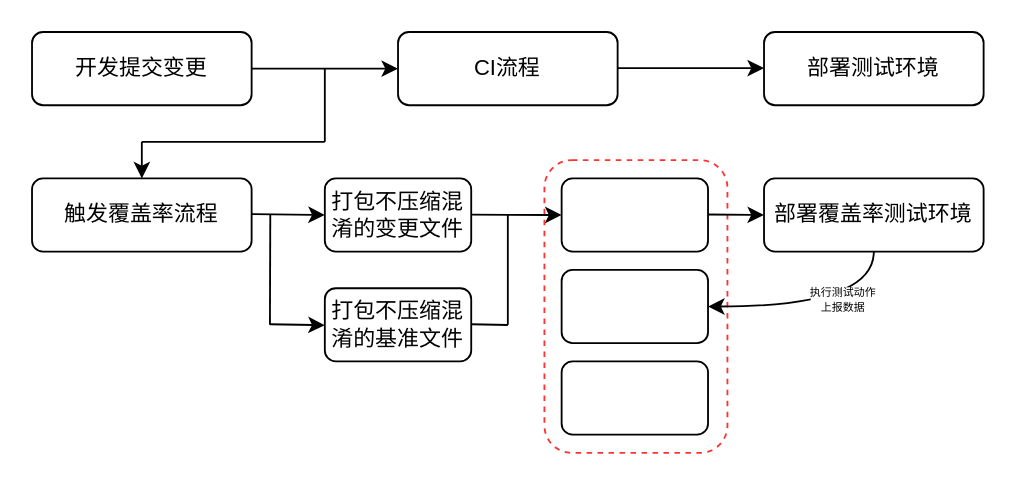
Image size: 1016x485. Some labels were removed from this diagram. The shapes that lost their labels are listed below. From the top down, each one's centre as x and y in pixels, then its label:
At (x=634, y=214): "代码插桩".
At (x=634, y=305): "数据上报".
At (x=634, y=397): "结果展示".
